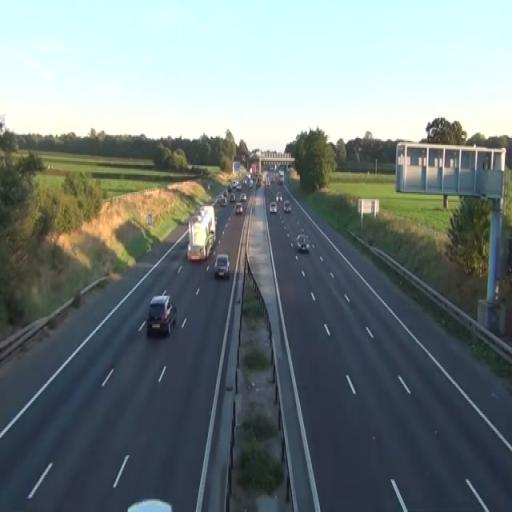Car: (147, 294, 177, 336), (214, 253, 230, 279), (235, 203, 243, 215)
Truck: (187, 204, 216, 262)
